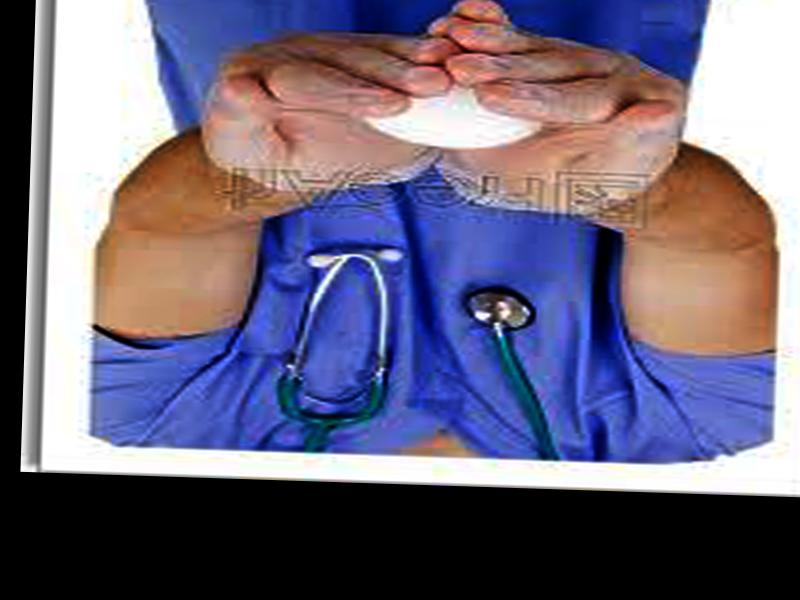Eggs: (362, 77, 537, 151)
